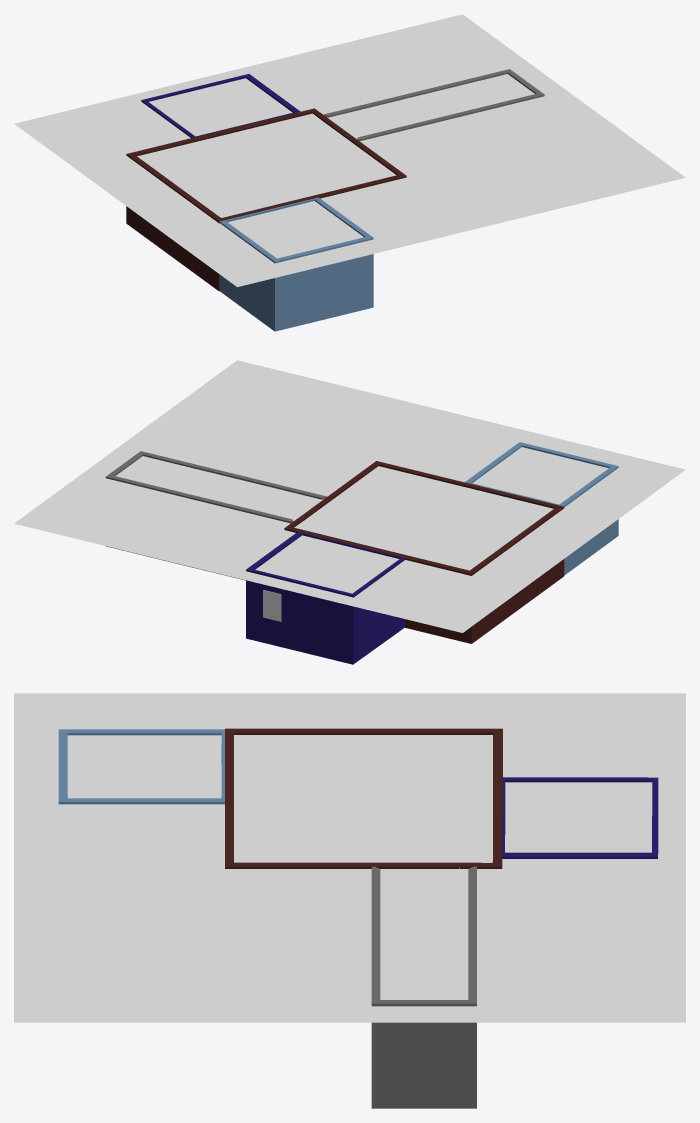
3 views of the same model, one above another, from view 1: azimuth 30°, elevation 25°; view 2: azimuth 150°, elevation 25°; view 3: azimuth 270°, elevation 25° (orthographic). The views are drawn at different scales.
Parts seen in each view (by area): view 1: Plane.028, bathroom, wall, ehe, Plane; view 2: Plane.028, Plane, wall, bathroom, ehe, Cube; view 3: Plane.028, ehe, wall, bathroom, Plane.
Part boxes in pixels (box(x1,y1,x2,y2)): Plane.028: box(14, 14, 685, 286); bathroom: box(219, 197, 373, 331); wall: box(126, 108, 406, 291); ehe: box(323, 69, 544, 141); Plane: box(141, 74, 300, 137); Plane.028: box(14, 360, 685, 632); Plane: box(246, 532, 405, 664); wall: box(284, 461, 564, 643); bathroom: box(465, 442, 618, 575); ehe: box(105, 451, 326, 580); Cube: box(263, 590, 281, 621); Plane.028: box(14, 693, 685, 1022); ehe: box(371, 866, 476, 1108); wall: box(225, 728, 502, 868); bathroom: box(58, 729, 224, 804); Plane: box(502, 777, 658, 858).
Size of the model in its own units: 4396 by 662 by 3789.
